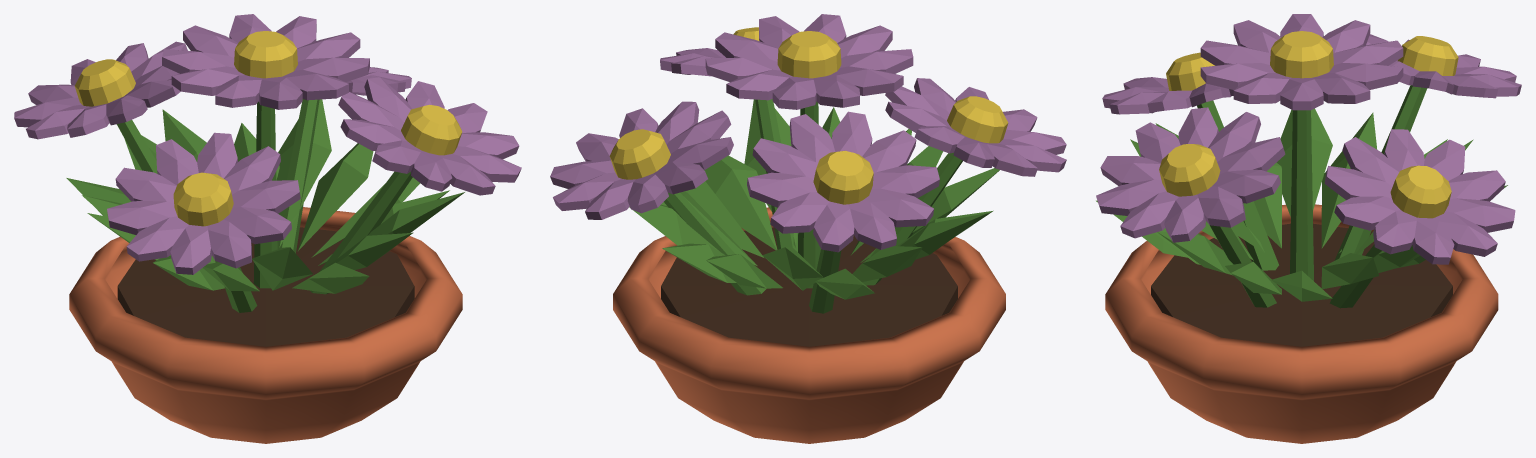
The model's file is AutumnAsterPot.glb.
3 renders of one model, left to right at view 1: azimuth 30°, elevation 25°; view 2: azimuth 150°, elevation 25°; view 3: azimuth 270°, elevation 25°, orthographic.
Parts seen in each view (by area): view 1: AutumnAsterPot_Petals, AutumnAsterPot_Pot, AutumnAsterPot_Foliage, AutumnAsterPot_Soil, AutumnAsterPot_Centers; view 2: AutumnAsterPot_Petals, AutumnAsterPot_Pot, AutumnAsterPot_Foliage, AutumnAsterPot_Soil, AutumnAsterPot_Centers; view 3: AutumnAsterPot_Petals, AutumnAsterPot_Pot, AutumnAsterPot_Foliage, AutumnAsterPot_Soil, AutumnAsterPot_Centers.
Boxes of the visible parts, box(x1,y1,x2,y2) form: AutumnAsterPot_Petals: box(14, 14, 521, 274); AutumnAsterPot_Pot: box(69, 207, 462, 443); AutumnAsterPot_Foliage: box(66, 99, 464, 312); AutumnAsterPot_Soil: box(117, 227, 414, 346); AutumnAsterPot_Centers: box(74, 31, 462, 226); AutumnAsterPot_Petals: box(550, 14, 1066, 252); AutumnAsterPot_Pot: box(613, 207, 1005, 443); AutumnAsterPot_Foliage: box(629, 99, 999, 313); AutumnAsterPot_Soil: box(661, 227, 957, 346); AutumnAsterPot_Centers: box(609, 27, 1008, 204); AutumnAsterPot_Petals: box(1096, 14, 1521, 264); AutumnAsterPot_Pot: box(1105, 204, 1498, 443); AutumnAsterPot_Foliage: box(1096, 85, 1507, 308); AutumnAsterPot_Soil: box(1151, 223, 1452, 346); AutumnAsterPot_Centers: box(1159, 31, 1458, 218).
Size of the model in its own units: 0.6469 by 0.598 by 0.619.
